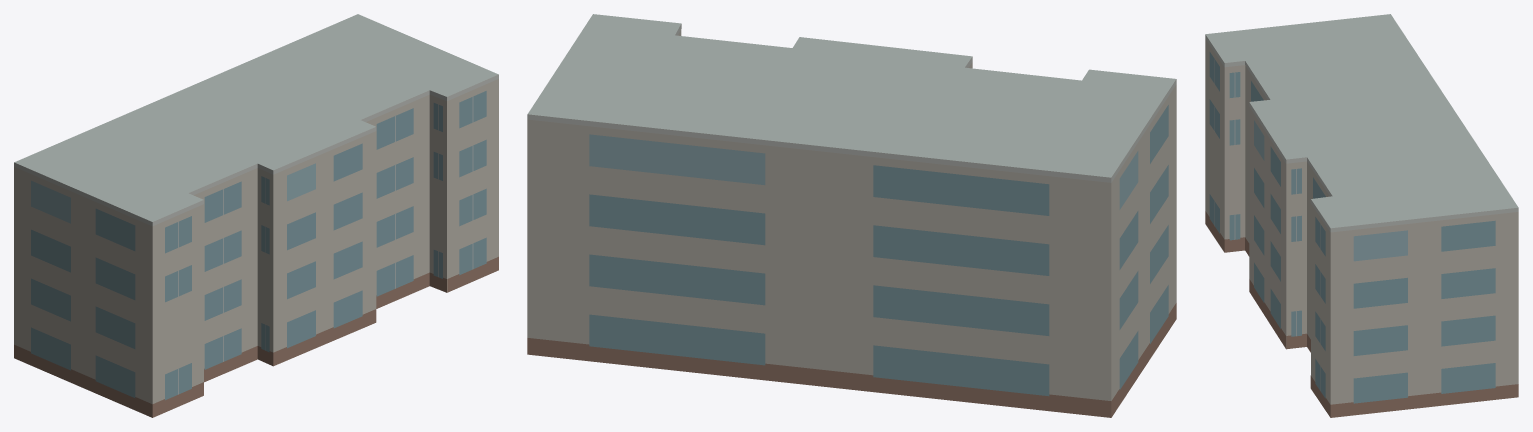
File: survey-upis-32704232.glb
3 renders of one model, left to right at view 1: azimuth 30°, elevation 25°; view 2: azimuth 150°, elevation 25°; view 3: azimuth 270°, elevation 25°, orthographic. The views are drawn at different scales.
Visible parts, largest first — view 1: survey-upis-32704232.tmp; view 2: survey-upis-32704232.tmp; view 3: survey-upis-32704232.tmp.
Part boxes in pixels (left/top/right/bottom): survey-upis-32704232.tmp: left=14, top=14, right=498, bottom=417; survey-upis-32704232.tmp: left=527, top=14, right=1176, bottom=417; survey-upis-32704232.tmp: left=1205, top=14, right=1518, bottom=417.
Size of the model in its own units: 26.92 by 11.1 by 16.64.
